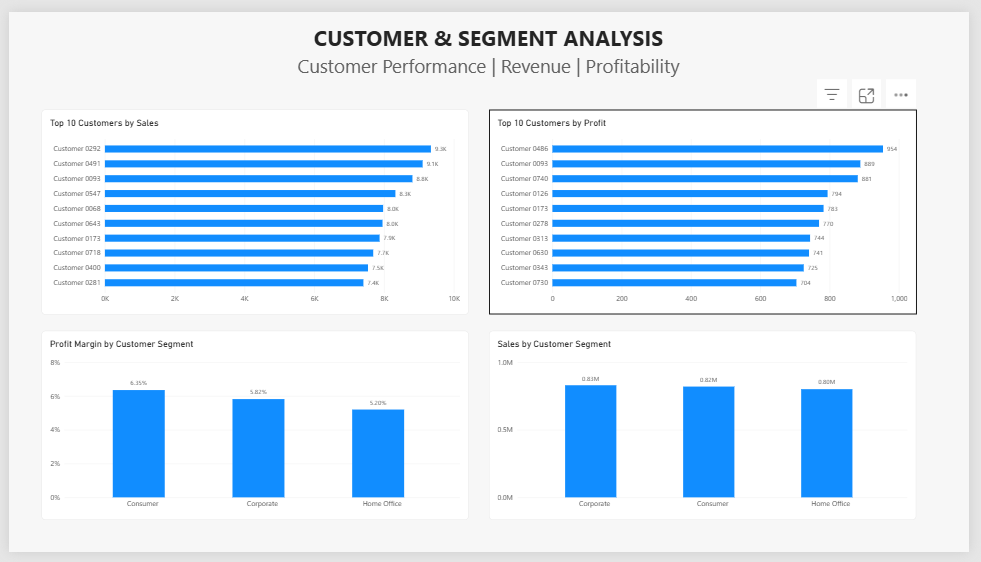

This screenshot's page, from the dashboard's own definition file:
{"tool":"powerbi","page":{"name":"Customer & Segment Analysis","canvas":[1920,1080],"ordinal":2},"visuals":[{"type":"textbox","title":"CUSTOMER & SEGMENT ANALYSIS","box":[320,22,1278,122],"z":0},{"type":"clusteredBarChart","title":"Top 10 Customers by Sales","fields":{"Category":["SalesData.Customer_Name"],"Y":["SalesData.Total Sales"]},"box":[64,196,854,410],"z":1000},{"type":"clusteredBarChart","title":"Top 10 Customers by Profit","fields":{"Category":["SalesData.Customer_Name"],"Y":["SalesData.Total Profit"]},"box":[960,196,854,410],"z":2000},{"type":"clusteredColumnChart","title":"Sales by Customer Segment","fields":{"Category":["SalesData.Segment"],"Y":["SalesData.Total Sales"]},"box":[960,638,854,378],"z":3000},{"type":"clusteredColumnChart","title":"Profit Margin by Customer Segment","fields":{"Category":["SalesData.Segment"],"Y":["SalesData.Profit Margin"]},"box":[66,638,854,378],"z":4000}]}

Visuals, with their boxes in screenshot pixels (x1, y1, x2, y2), scaled from the page's 1920x1080 canvas onto the 981x562 screenshot:
"CUSTOMER & SEGMENT ANALYSIS" textbox: [164,11,816,75]
"Top 10 Customers by Sales" clusteredBarChart: [33,102,469,315]
"Top 10 Customers by Profit" clusteredBarChart: [491,102,927,315]
"Sales by Customer Segment" clusteredColumnChart: [491,332,927,529]
"Profit Margin by Customer Segment" clusteredColumnChart: [34,332,470,529]
